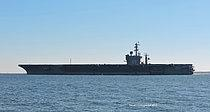MIL_Ship: (18, 41, 196, 76)
